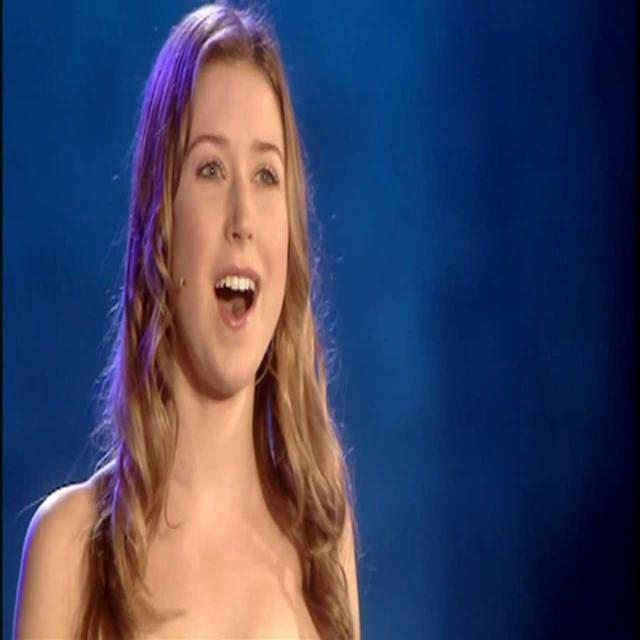mobile_phonerotation: (12, 3, 364, 637)
